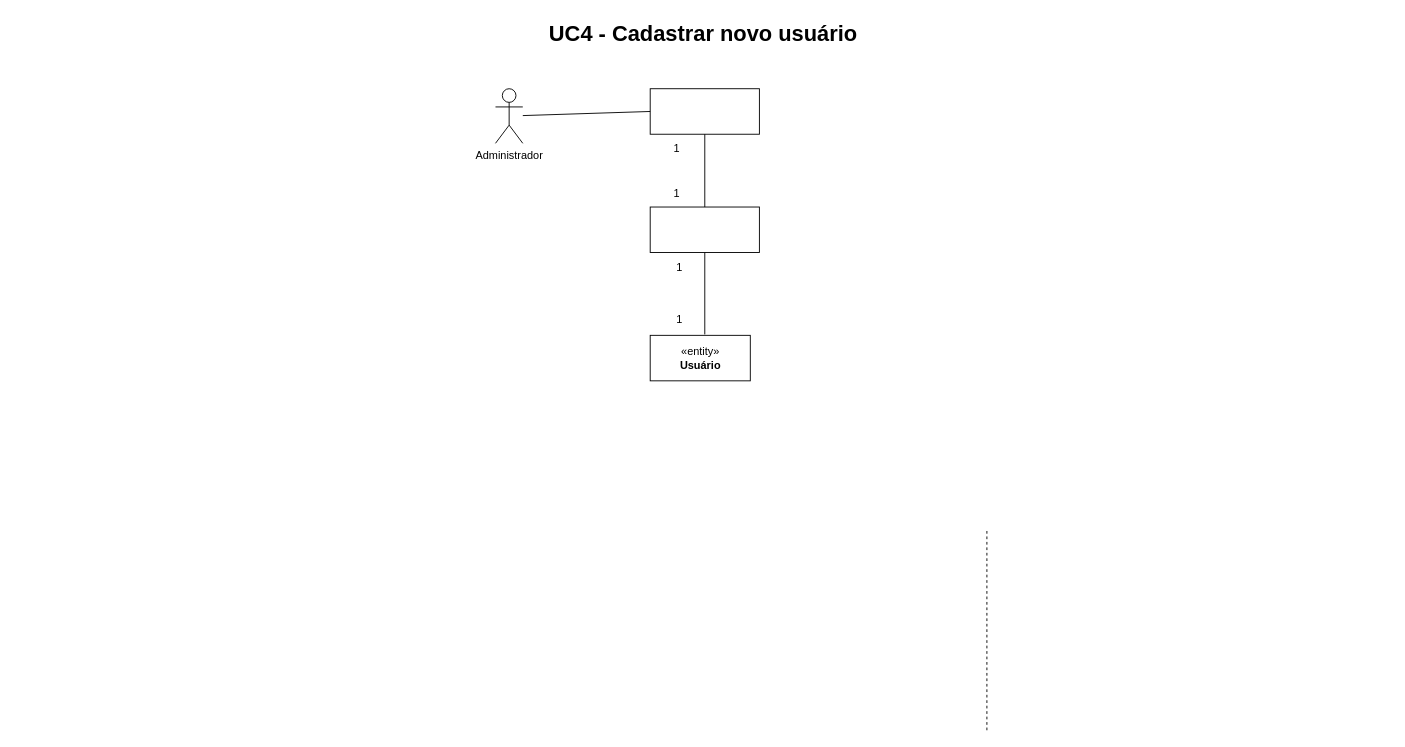
This 1405x747 diagram has some shape labels left out. Here are the shapes that lost their labels. From the top down, the box of each, then its label:
(649, 88, 759, 134): «boundary» FormulárioUsuário
(649, 206, 759, 253): «control» ControladorUsuário
